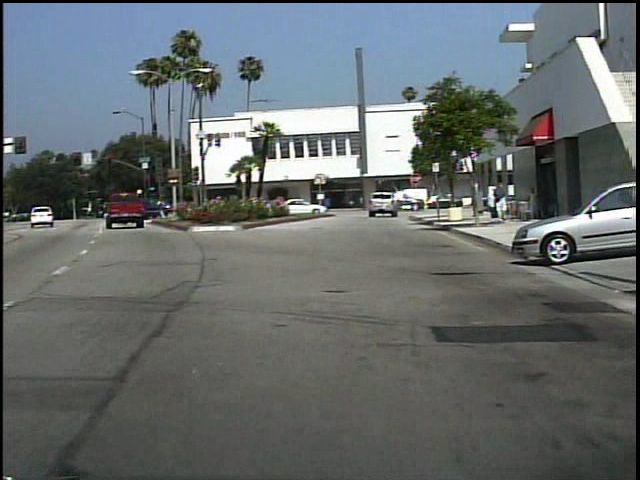person: (494, 182, 511, 224), (370, 191, 391, 219), (526, 184, 538, 222), (486, 184, 498, 219)
